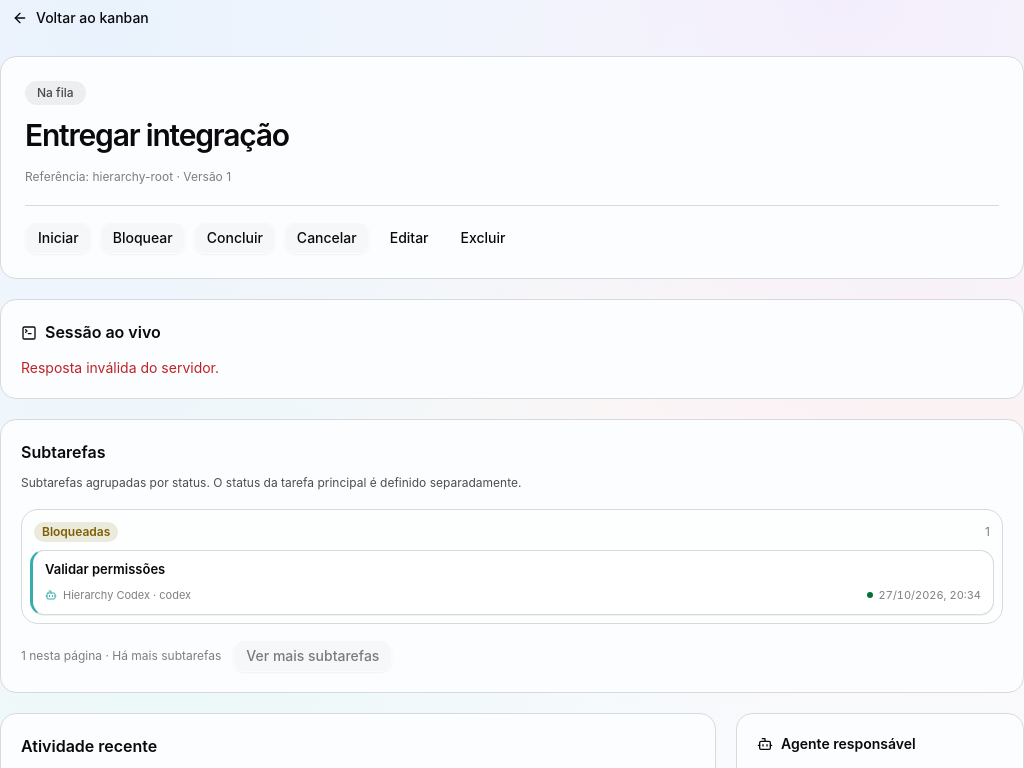
Test: agent task hierarchy navigation › explains that parent deletion requires removing its children first
Click the button "Excluir". click: [483, 238]
box: [448,222,517,254]
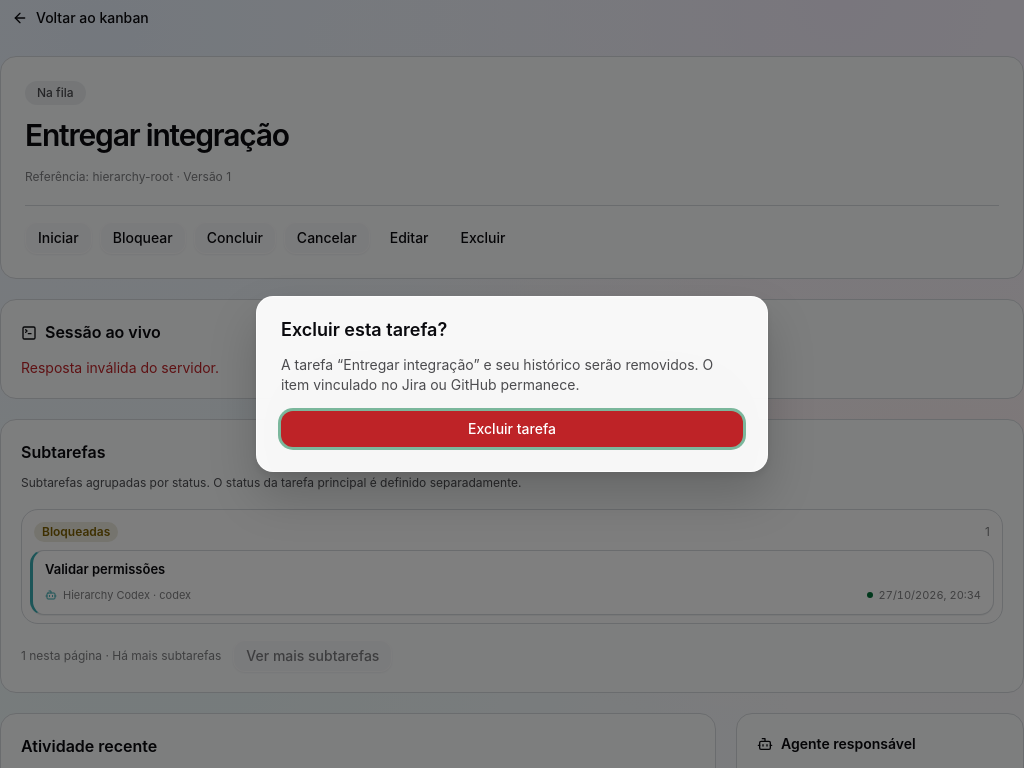
Click the button "Excluir tarefa". click: [512, 429]
box: [281,411,743,447]
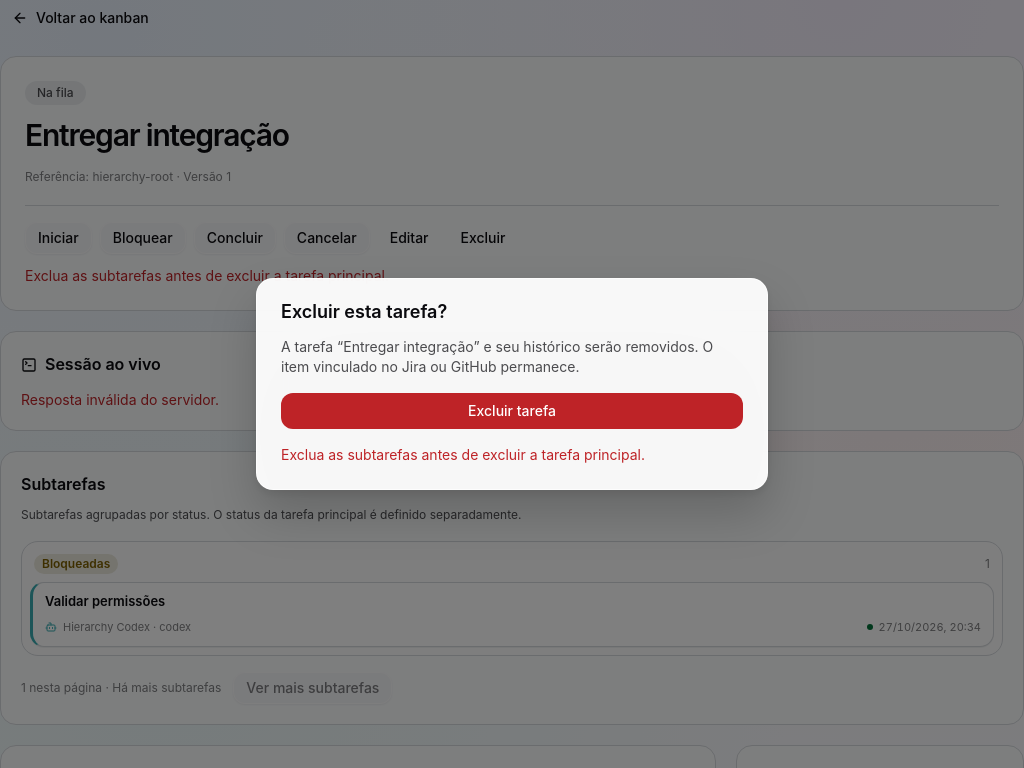
Result: the message reads "Exclua as subtarefas antes de excluir a tarefa principal." at [281,446,645,463]
